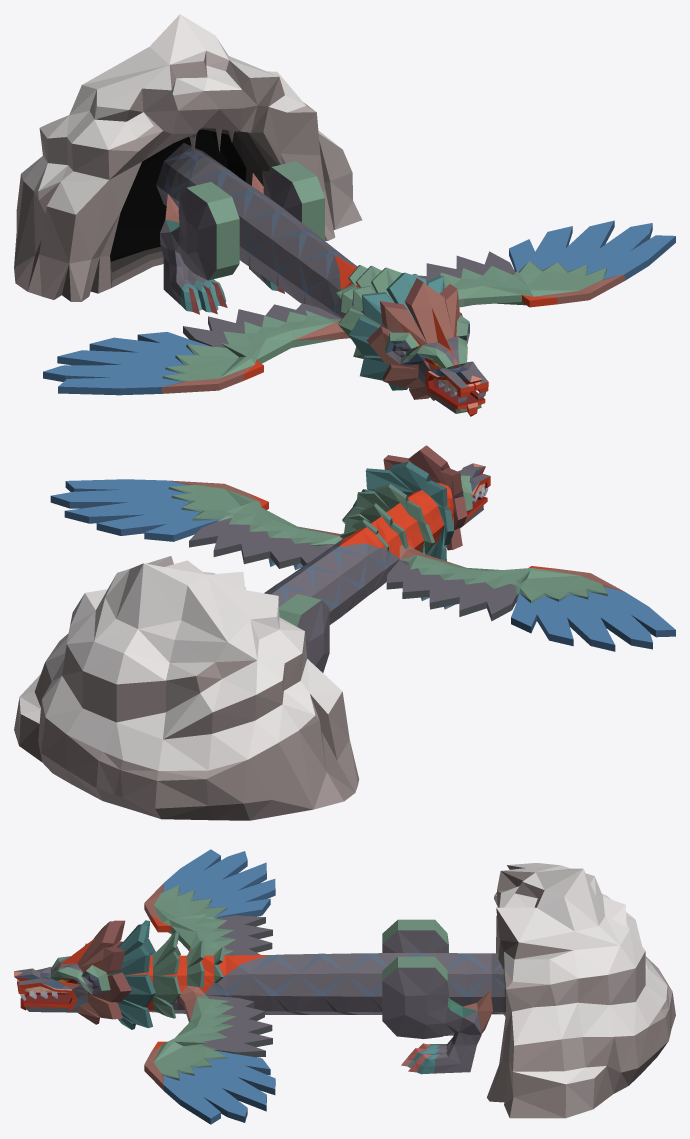
Rendered from the-hueycoatl.gltf.
The picture shows the model from 3 angles, top to bottom: view 1: azimuth 30°, elevation 25°; view 2: azimuth 150°, elevation 25°; view 3: azimuth 270°, elevation 25°; orthographic projection. The views are drawn at different scales.
Bounding box in the file's own units: 1694 × 551 × 1759.
Materials: 2 (2 with a texture image).
